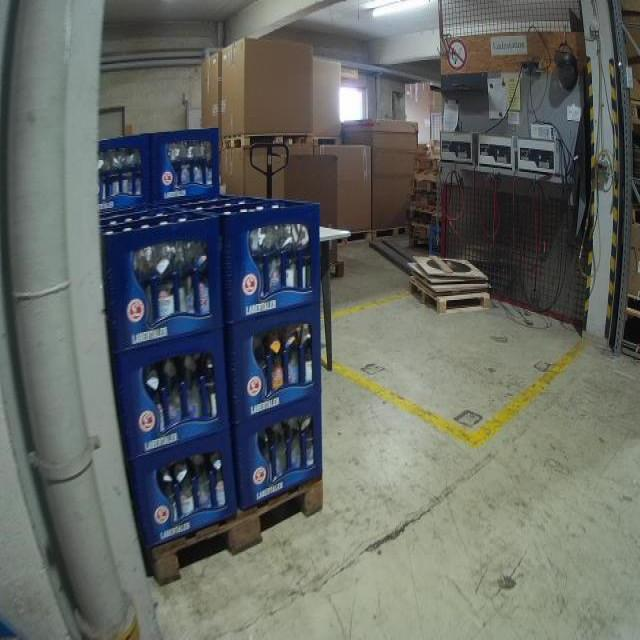pallet: (151, 476, 324, 589), (408, 276, 492, 319), (218, 133, 314, 151), (337, 228, 371, 251), (372, 225, 408, 242), (302, 137, 341, 148)
pallet_truck: (241, 134, 294, 195)
